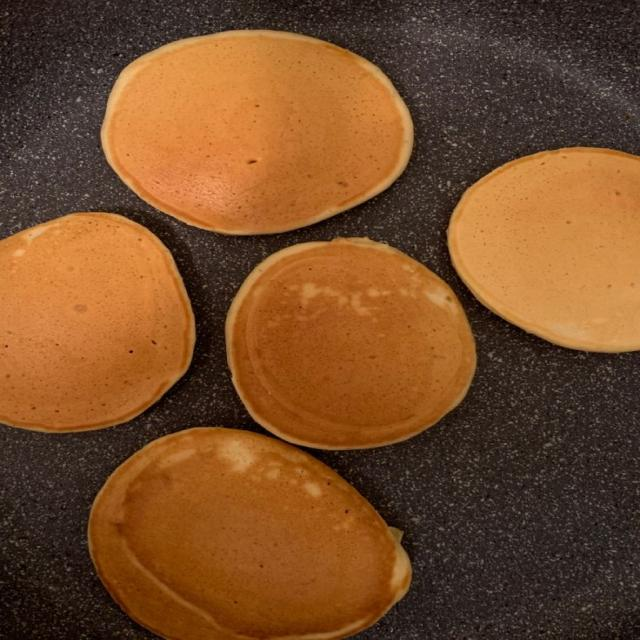pancake: (89, 428, 411, 639), (102, 31, 413, 234), (227, 239, 475, 448), (0, 213, 194, 431), (449, 148, 639, 351)
